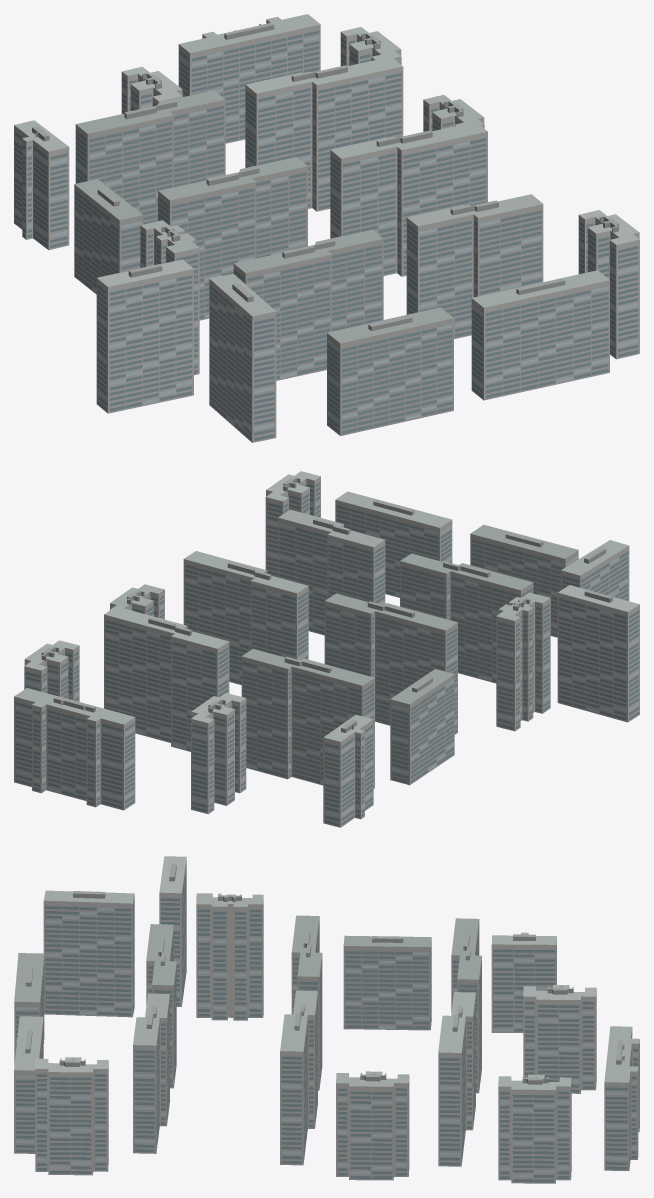
The model's file is apt-a13204409.glb.
3 views of the same model, one above another, from view 1: azimuth 30°, elevation 25°; view 2: azimuth 150°, elevation 25°; view 3: azimuth 270°, elevation 25° (orthographic). The views are drawn at different scales.
Visible parts, largest first — view 1: apt-a13204409; view 2: apt-a13204409; view 3: apt-a13204409.
Part boxes in pixels (x1,y1,x2,y2): apt-a13204409: (14, 14, 639, 442); apt-a13204409: (14, 471, 639, 827); apt-a13204409: (14, 856, 639, 1183).
Size of the model in its own units: 252 by 65 by 312.
